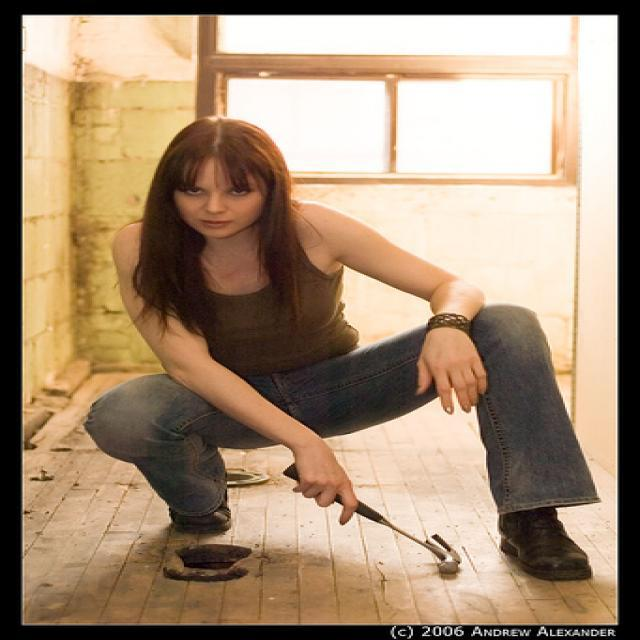hammer: (278, 462, 468, 582)
